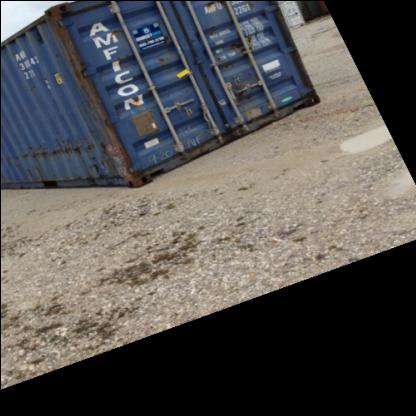Damage: (47, 8, 96, 84), (12, 138, 105, 159), (226, 106, 272, 128), (140, 141, 178, 165), (224, 31, 258, 57), (172, 115, 198, 142), (155, 26, 172, 64), (228, 72, 249, 102), (106, 24, 130, 42), (127, 84, 148, 104), (198, 0, 228, 12)
